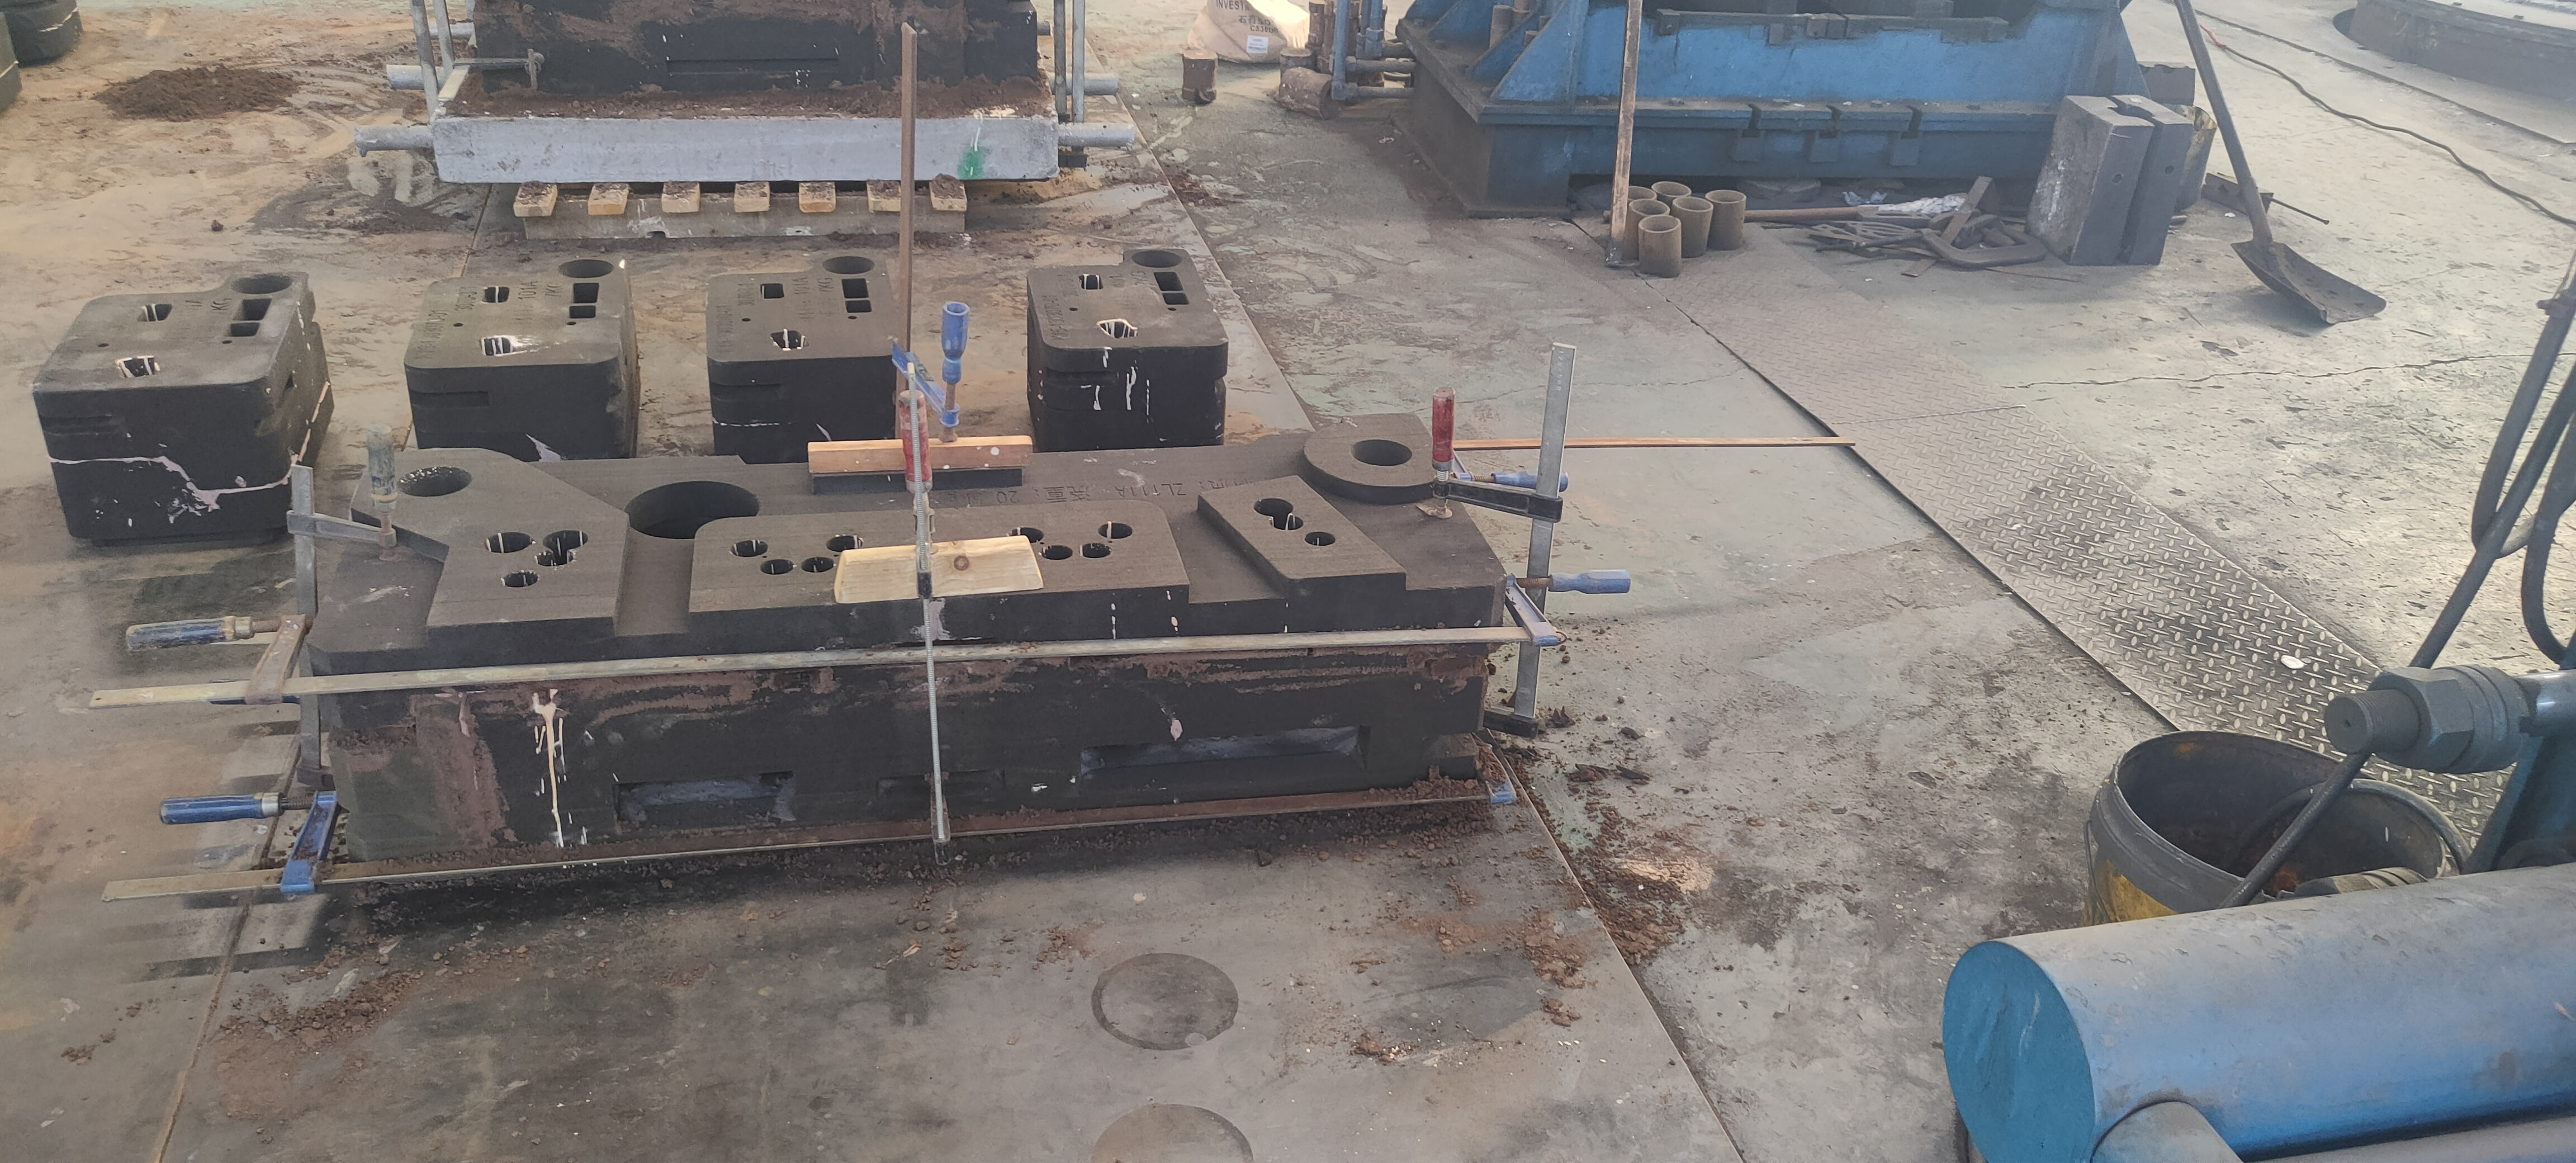pouring hole: (396, 467, 471, 496), (1349, 440, 1413, 467), (230, 273, 294, 292), (557, 258, 614, 278), (821, 256, 876, 274), (1130, 251, 1183, 268), (1638, 214, 1679, 232), (1630, 199, 1669, 217), (1672, 197, 1714, 212), (1705, 189, 1746, 204), (1654, 181, 1690, 197), (1622, 184, 1656, 200)
